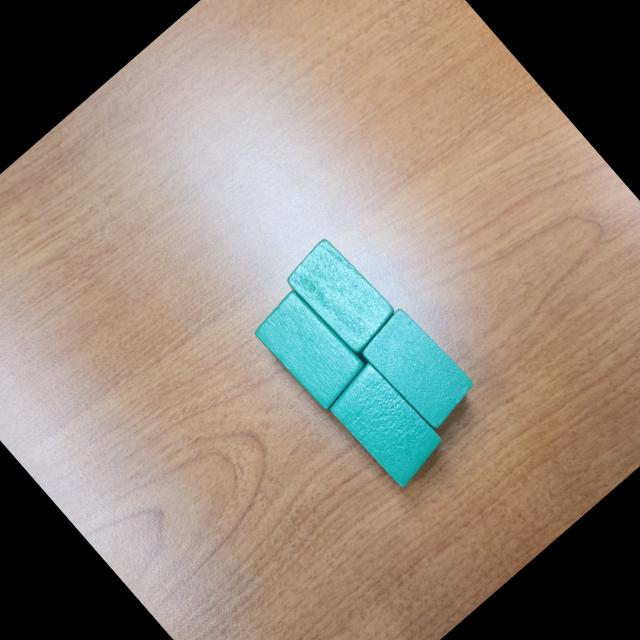green: (356, 303, 484, 436), (322, 357, 450, 490), (248, 284, 373, 412), (281, 233, 404, 361)
